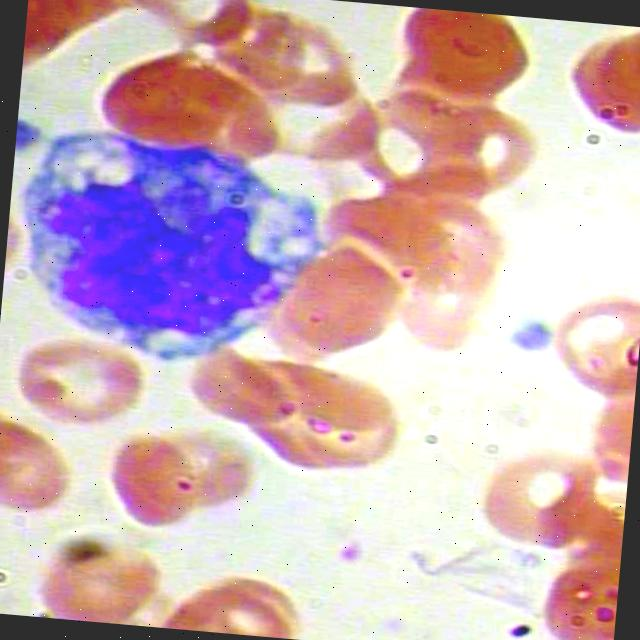Platelets: (500, 307, 554, 358)
RBC: (265, 243, 420, 361), (255, 370, 400, 496), (94, 37, 248, 155), (465, 428, 610, 553), (0, 329, 166, 438), (384, 5, 538, 116), (412, 95, 546, 221), (32, 520, 172, 628), (82, 424, 202, 536), (549, 19, 640, 159), (170, 342, 308, 430), (158, 557, 300, 639), (546, 286, 640, 403), (0, 409, 87, 523)
WBC: (0, 115, 336, 363)
